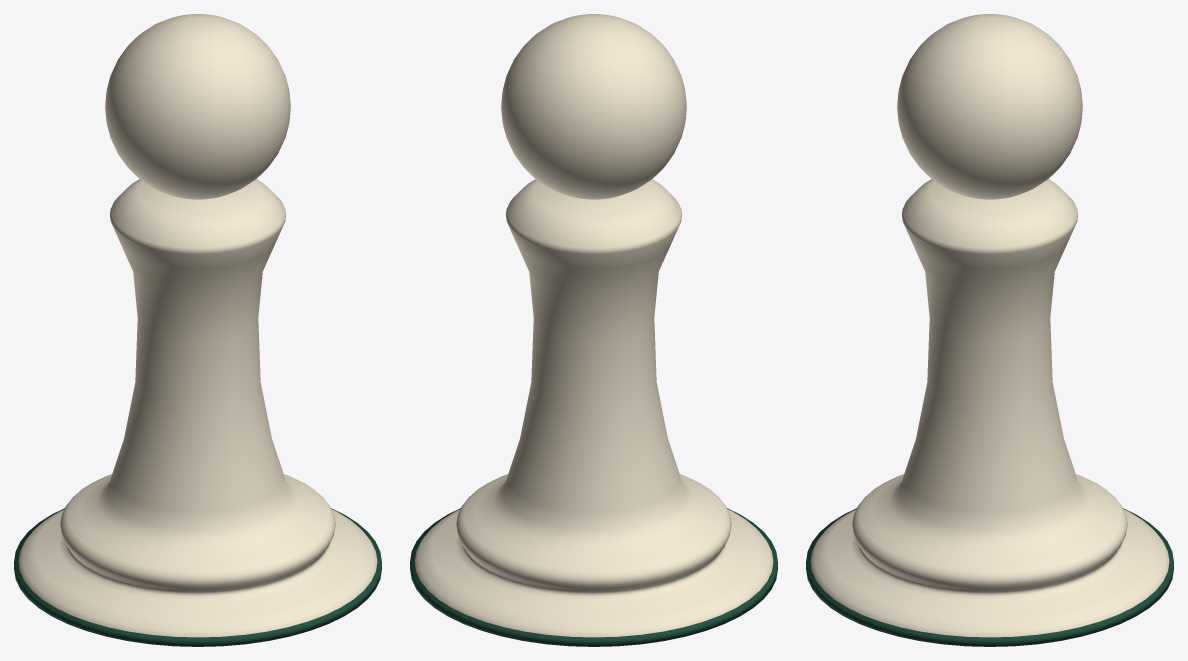
The model's file is chess-pawn-white.glb.
3 views of the same model, side by side, from view 1: azimuth 30°, elevation 25°; view 2: azimuth 150°, elevation 25°; view 3: azimuth 270°, elevation 25° (orthographic).
Visible parts, largest first — view 1: ChessPawn; view 2: ChessPawn; view 3: ChessPawn.
Boxes of the visible parts, left/top/right/bottom form: ChessPawn: left=14, top=14, right=381, bottom=646; ChessPawn: left=410, top=14, right=777, bottom=646; ChessPawn: left=806, top=14, right=1173, bottom=646.
Bounding box in the file's own units: 0.6112 × 1 × 0.6112.
